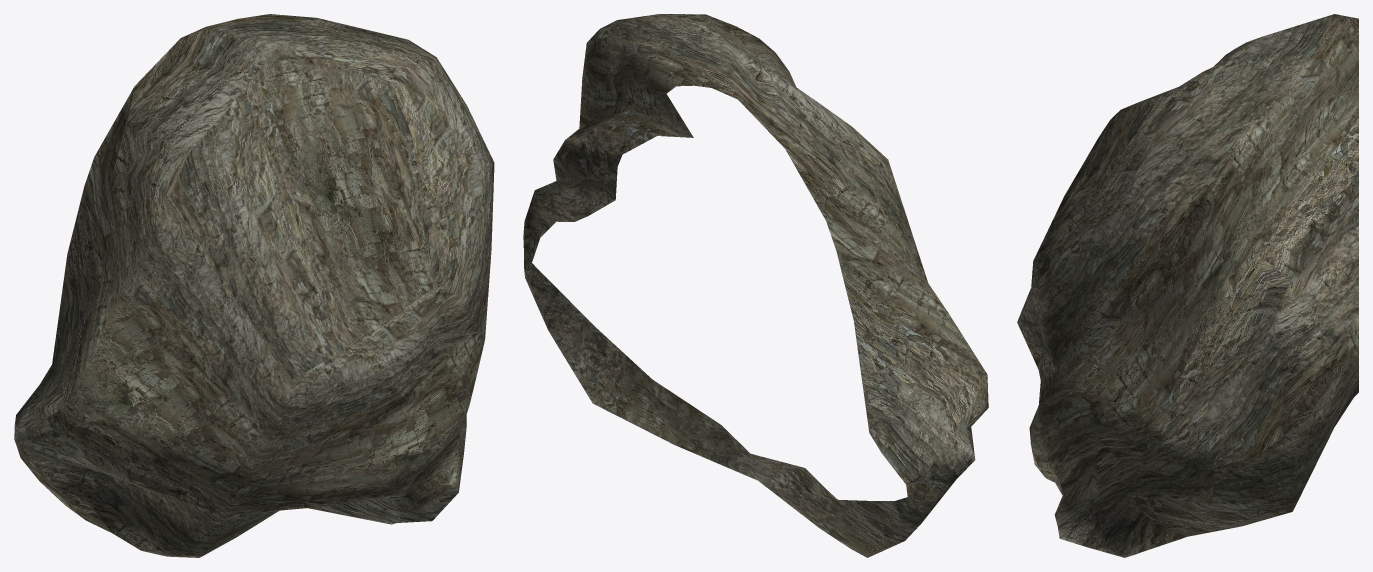
The model's file is duhoc_halfrock5.glb.
3 renders of one model, left to right at view 1: azimuth 30°, elevation 25°; view 2: azimuth 150°, elevation 25°; view 3: azimuth 270°, elevation 25°, orthographic. The views are drawn at different scales.
Bounding box in the file's own units: 16.87 × 17.97 × 10.56.
Materials: 1 (1 with a texture image).
